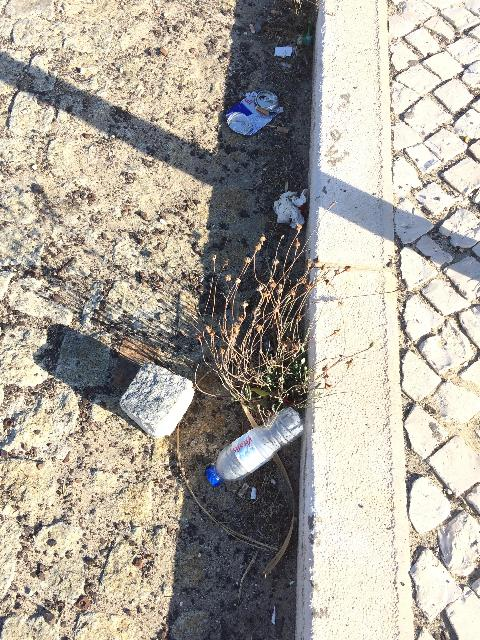metal: (226, 91, 283, 135)
plastic: (205, 407, 303, 486)
